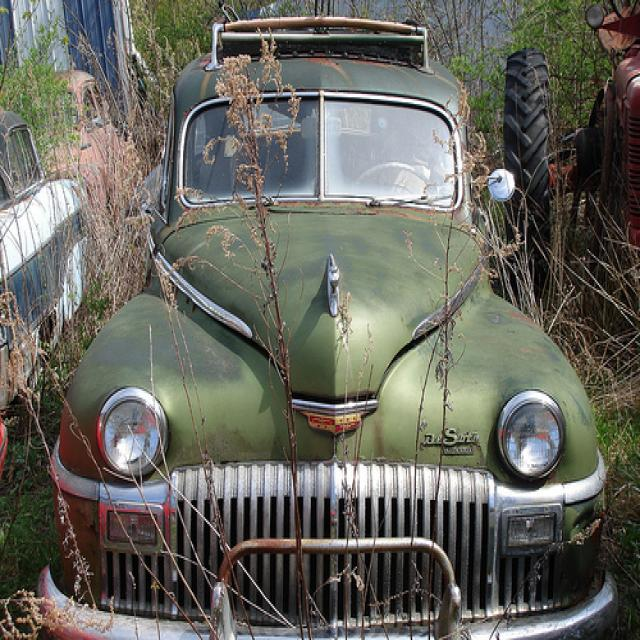Car: (37, 22, 620, 640)
